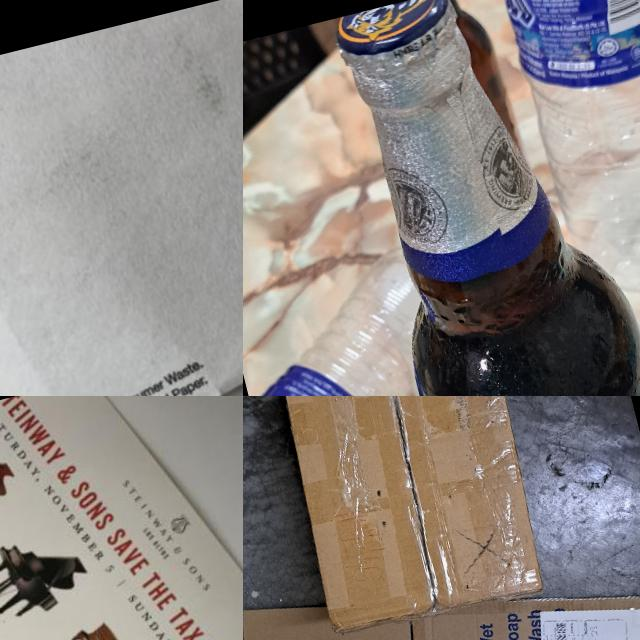garrafa de vidro: (327, 0, 640, 396)
garrafa plástica: (498, 0, 640, 312), (243, 245, 474, 396)
papel: (0, 0, 243, 396), (0, 396, 243, 640)
papelão: (243, 396, 560, 640), (243, 510, 640, 640)
